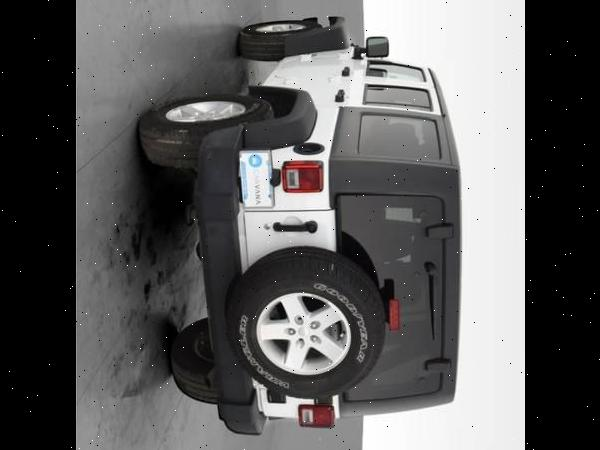Front_Fender: (285, 15, 350, 56)
Front_Left_Door: (277, 46, 364, 75)
Front_Left_Window: (363, 56, 424, 81)
Left_Taillight: (284, 160, 325, 190)
Rear_Bumper: (192, 128, 264, 439)
Rear_Fender: (241, 85, 438, 162)
Rear_Left_Door: (261, 67, 364, 107)
Rear_Left_Window: (362, 77, 434, 114)
Rear_Windshield: (334, 193, 442, 401)
Right_Taillight: (298, 406, 334, 430)
Roof: (329, 67, 458, 417)
Tailgate: (240, 149, 336, 271), (256, 380, 333, 419)
Wheel: (224, 248, 384, 399), (137, 93, 272, 167), (155, 316, 202, 406), (238, 18, 317, 63)
